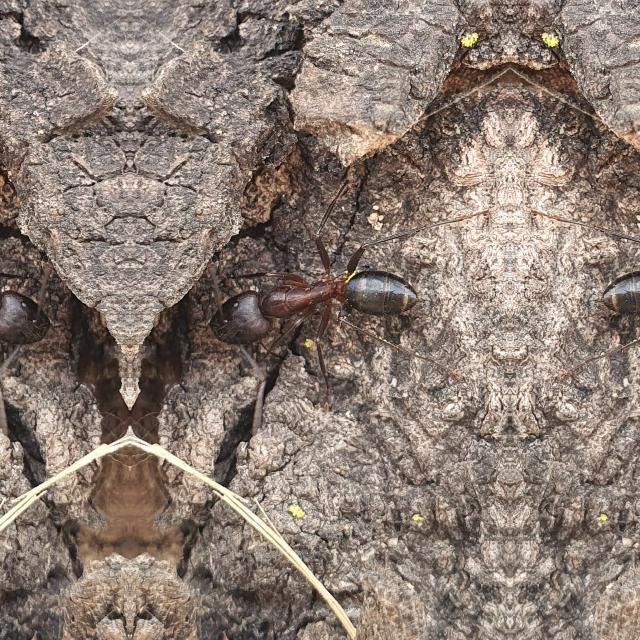Camponotus: (180, 204, 448, 376), (0, 203, 78, 374), (570, 203, 640, 374)
